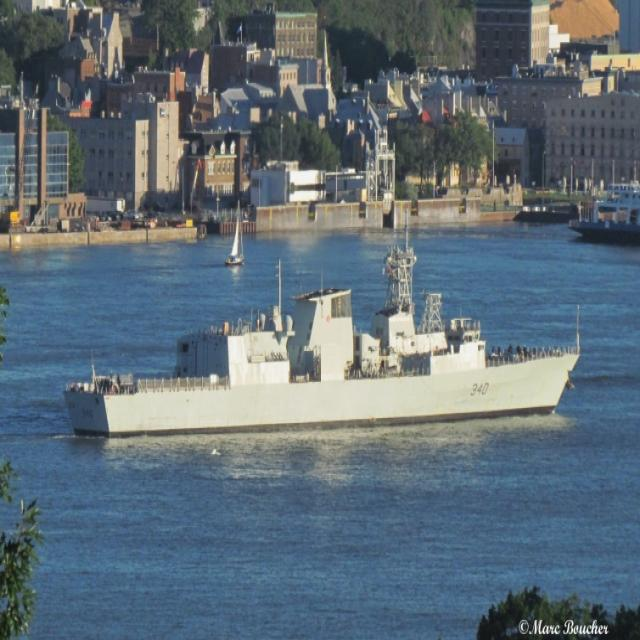Fragata: (67, 183, 589, 445)
